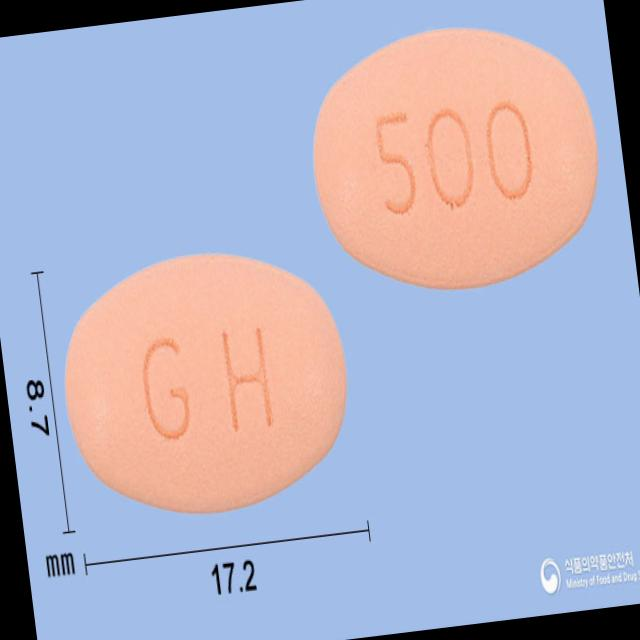Levona: (298, 8, 612, 304), (52, 237, 363, 530)
